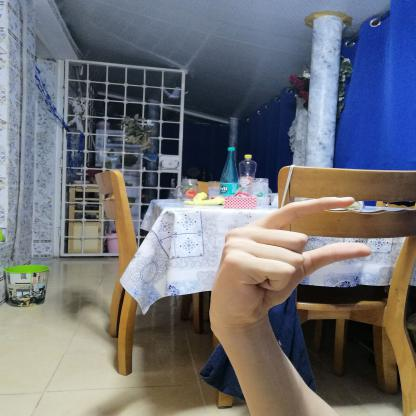DELL: (199, 187, 384, 336)
